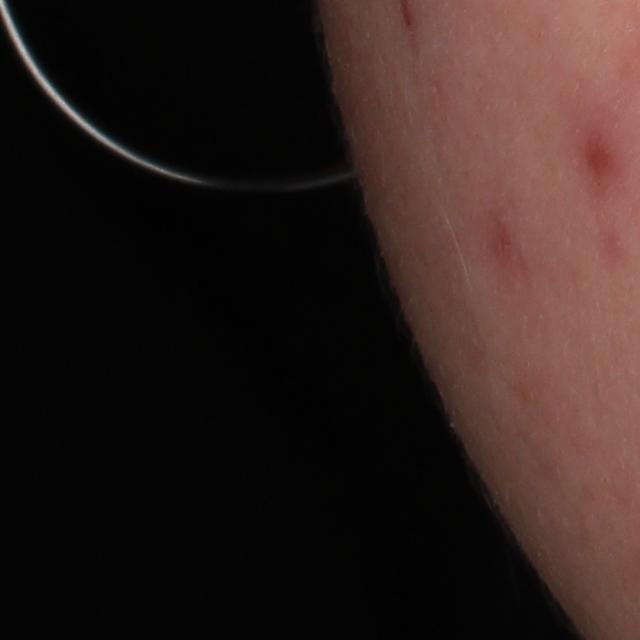papule: (582, 138, 612, 179)
